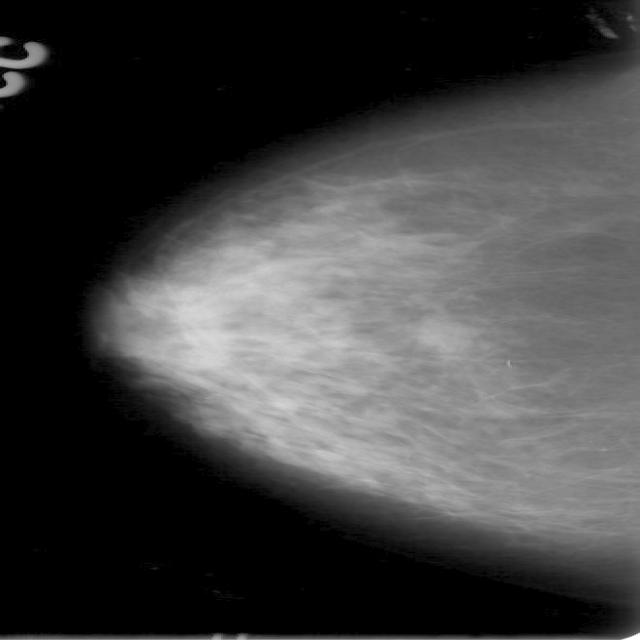tumour: (411, 312, 477, 350)
